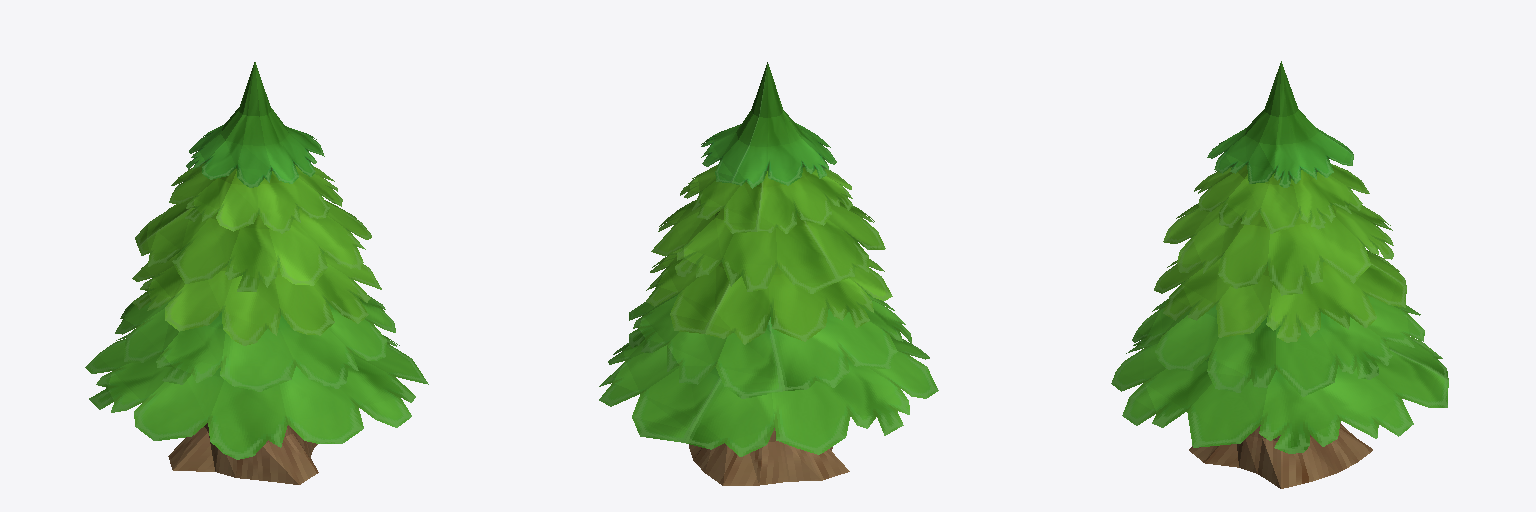
3 views of the same model, side by side, from view 1: azimuth 30°, elevation 25°; view 2: azimuth 150°, elevation 25°; view 3: azimuth 270°, elevation 25° (orthographic).
Parts seen in each view (by area): view 1: tree_low.001_StylizedTree_0.002_StylizedTree.002, tree_low.001_StylizedTree_0.004_StylizedTree.002, tree_low.001_StylizedTree_0.005_StylizedTree.002, tree_low.001_StylizedTree_0.003_StylizedTree.002, tree_low.001_StylizedTree_0_StylizedTree.002, tree_low.001_StylizedTree_0.006_StylizedTree.002, tree_low.001_StylizedTree_0.001_StylizedTree.002; view 2: tree_low.001_StylizedTree_0.002_StylizedTree.002, tree_low.001_StylizedTree_0.004_StylizedTree.002, tree_low.001_StylizedTree_0.005_StylizedTree.002, tree_low.001_StylizedTree_0.003_StylizedTree.002, tree_low.001_StylizedTree_0_StylizedTree.002, tree_low.001_StylizedTree_0.006_StylizedTree.002, tree_low.001_StylizedTree_0.001_StylizedTree.002; view 3: tree_low.001_StylizedTree_0.002_StylizedTree.002, tree_low.001_StylizedTree_0.004_StylizedTree.002, tree_low.001_StylizedTree_0.005_StylizedTree.002, tree_low.001_StylizedTree_0.003_StylizedTree.002, tree_low.001_StylizedTree_0_StylizedTree.002, tree_low.001_StylizedTree_0.006_StylizedTree.002, tree_low.001_StylizedTree_0.001_StylizedTree.002.
Boxes of the visible parts, <box> form: tree_low.001_StylizedTree_0.002_StylizedTree.002: <box>85,335,428,459</box>; tree_low.001_StylizedTree_0.004_StylizedTree.002: <box>115,295,395,391</box>; tree_low.001_StylizedTree_0.005_StylizedTree.002: <box>135,199,371,291</box>; tree_low.001_StylizedTree_0.003_StylizedTree.002: <box>132,251,381,345</box>; tree_low.001_StylizedTree_0_StylizedTree.002: <box>186,62,324,187</box>; tree_low.001_StylizedTree_0.006_StylizedTree.002: <box>169,163,342,233</box>; tree_low.001_StylizedTree_0.001_StylizedTree.002: <box>168,423,318,484</box>; tree_low.001_StylizedTree_0.002_StylizedTree.002: <box>599,335,938,456</box>; tree_low.001_StylizedTree_0.004_StylizedTree.002: <box>628,291,911,398</box>; tree_low.001_StylizedTree_0.005_StylizedTree.002: <box>651,200,885,293</box>; tree_low.001_StylizedTree_0.003_StylizedTree.002: <box>646,248,892,344</box>; tree_low.001_StylizedTree_0_StylizedTree.002: <box>701,62,836,188</box>; tree_low.001_StylizedTree_0.006_StylizedTree.002: <box>680,165,852,233</box>; tree_low.001_StylizedTree_0.001_StylizedTree.002: <box>689,428,849,485</box>; tree_low.001_StylizedTree_0.002_StylizedTree.002: <box>1111,336,1448,453</box>; tree_low.001_StylizedTree_0.004_StylizedTree.002: <box>1132,295,1424,396</box>; tree_low.001_StylizedTree_0.005_StylizedTree.002: <box>1163,203,1393,295</box>; tree_low.001_StylizedTree_0.003_StylizedTree.002: <box>1154,250,1406,342</box>; tree_low.001_StylizedTree_0_StylizedTree.002: <box>1207,61,1353,187</box>; tree_low.001_StylizedTree_0.006_StylizedTree.002: <box>1194,164,1369,233</box>; tree_low.001_StylizedTree_0.001_StylizedTree.002: <box>1189,423,1372,488</box>.
Bounding box in the file's own units: 70.82 × 90.36 × 70.88.
1 materials, 1 textured.